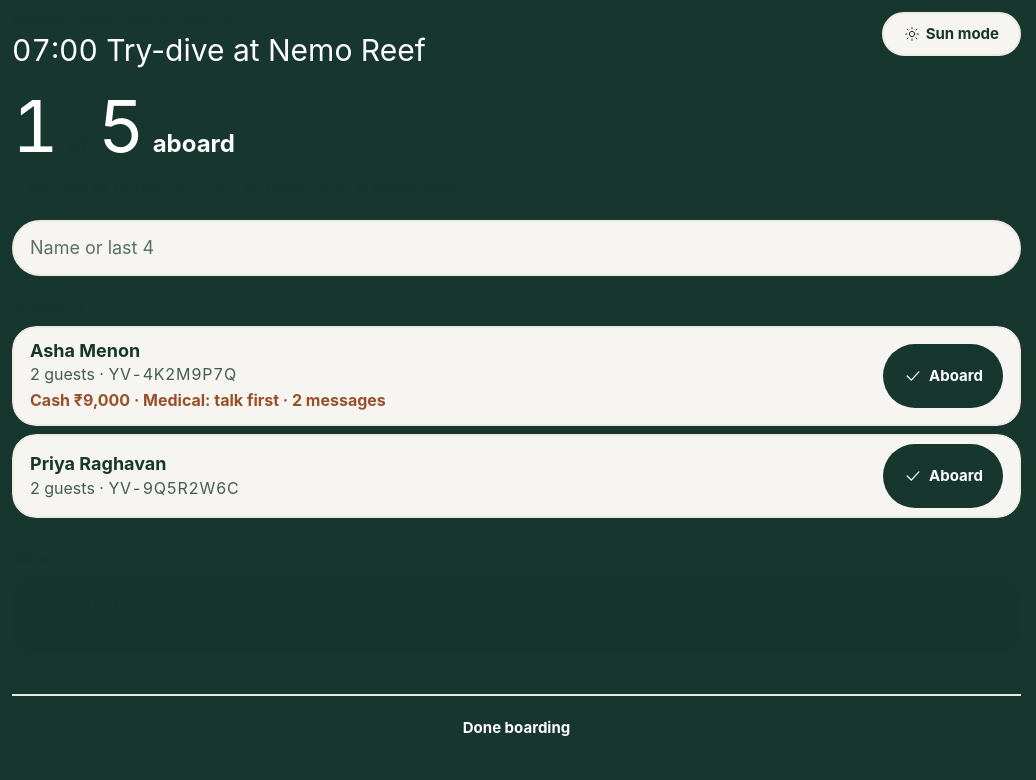
Test case: boarding › finds a party by the last four of the reference
Type "w6c" into the search field named "Find a party by name or the last four of their reference" at point(516, 248), box [12,220,1021,276]
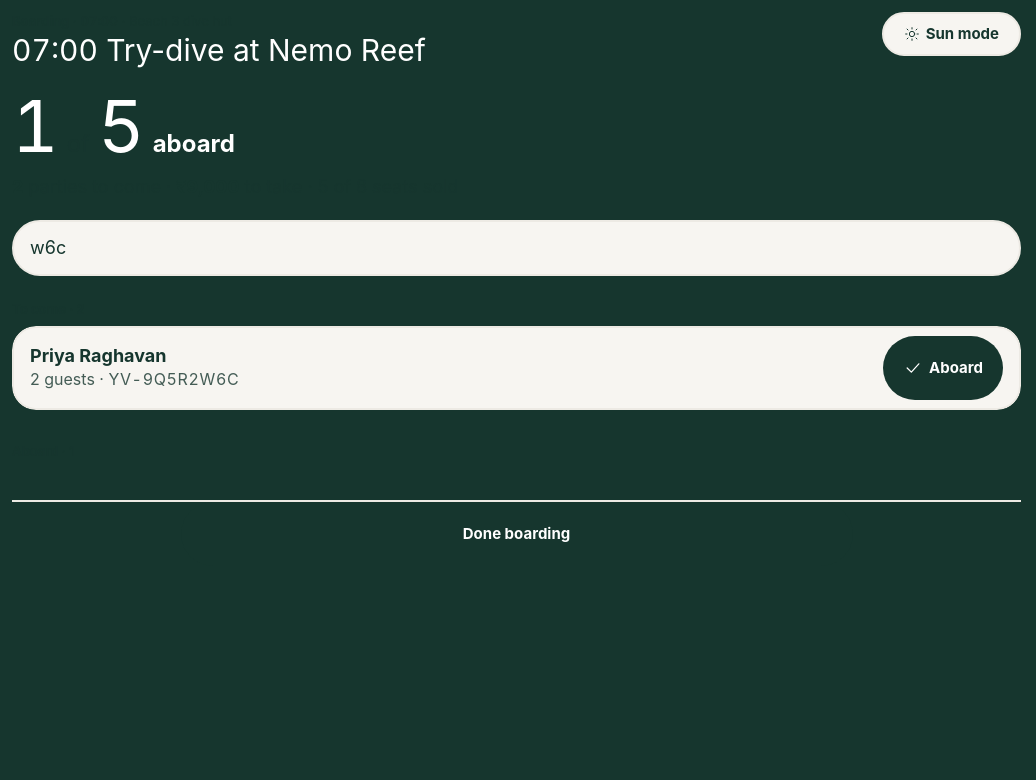
Check: the text "Priya Raghavan" is shown, box [30,345,166,366]
Check: the button "Asha Menon" is gone
